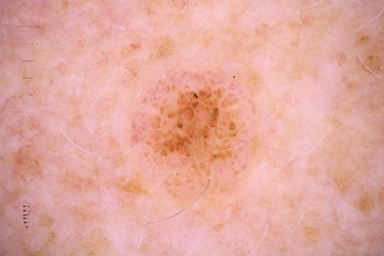nevus: (132, 73, 253, 195)
